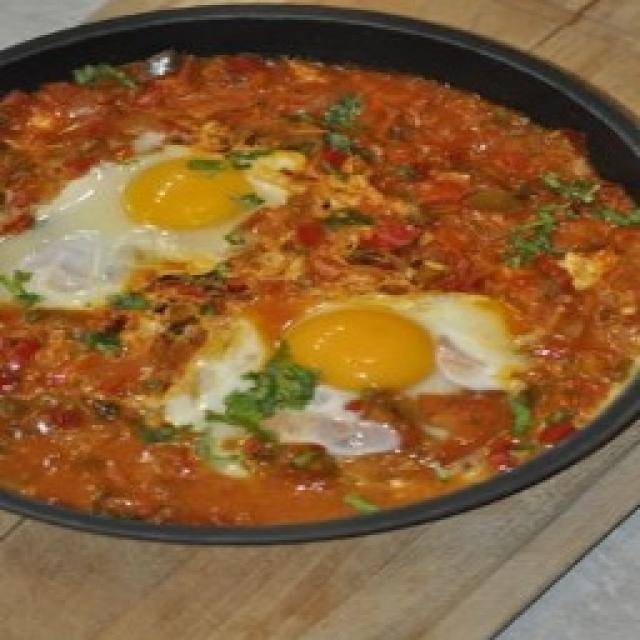Chakchouka: (0, 48, 640, 542)
